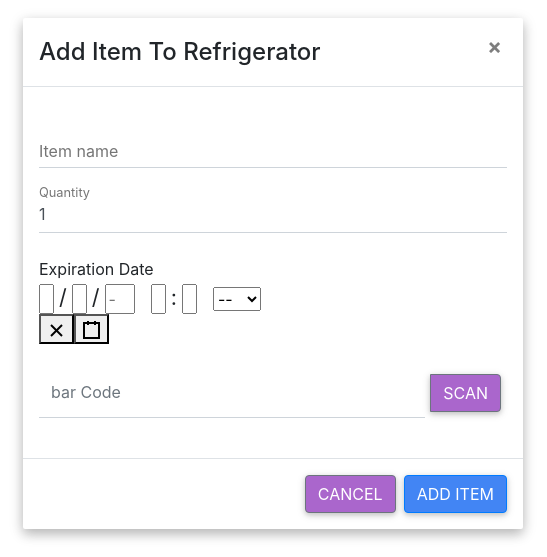
Test: only allows quantity to be a number between 1 and 100
The width and height of the screenshot is (547, 557).
Type "hello" into the field with test id "Quantity-item-add".
click(273, 212); type("hello")  # box [39,192,507,233]
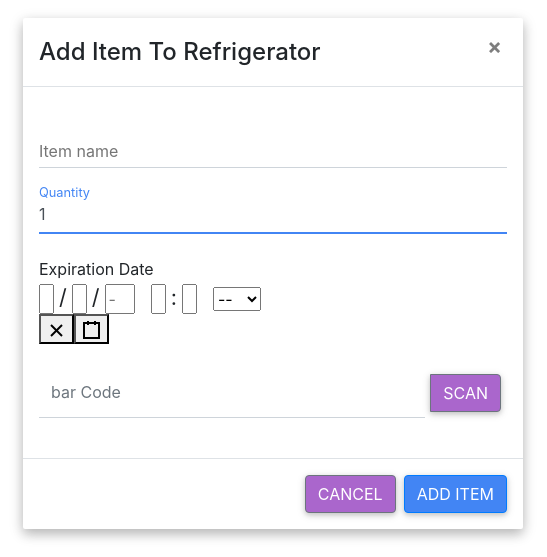
Type "2" into the field with test id "Quantity-item-add".
click(273, 212); type("2")  # box [39,192,507,233]
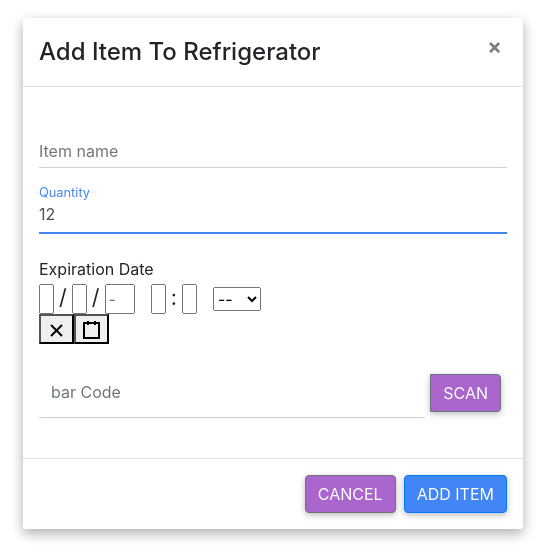
Check: the field with test id "Quantity-item-add" holds "12", box [39,192,507,233]
